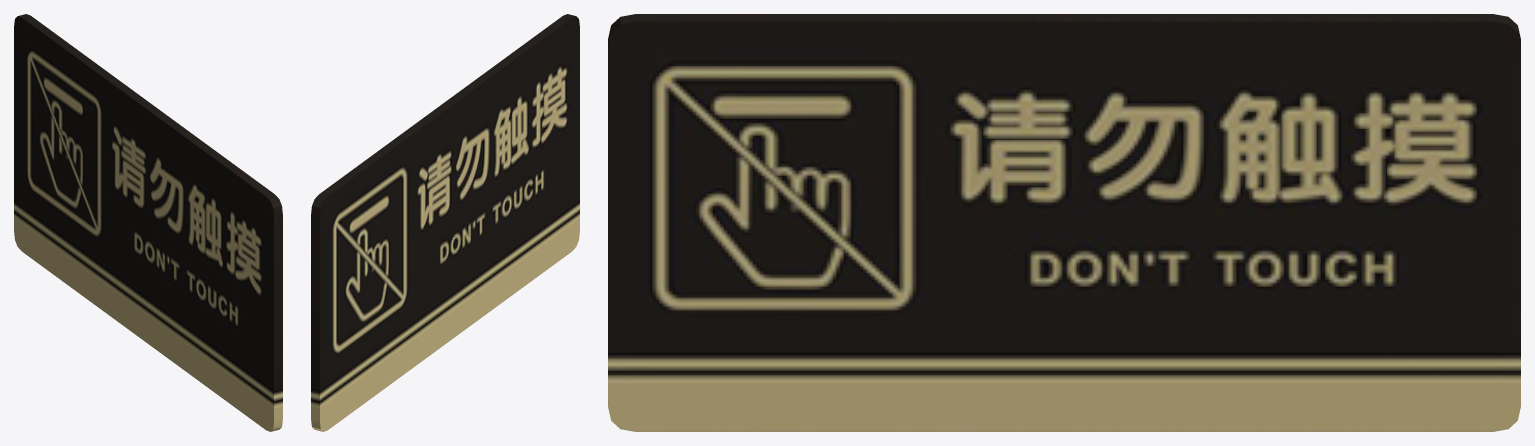
Rendered from 警示牌.FBX.
The picture shows the model from 3 angles, left to right: view 1: azimuth 30°, elevation 25°; view 2: azimuth 150°, elevation 25°; view 3: azimuth 270°, elevation 25°; orthographic projection. The views are drawn at different scales.
Parts seen in each view (by area): view 1: 对象261; view 2: 对象261; view 3: 对象261.
Part boxes in pixels (x1,y1,x2,y2): 对象261: (14, 14, 282, 431); 对象261: (311, 14, 579, 431); 对象261: (608, 14, 1520, 431).
Bounding box in the file's own units: 5 × 127 × 256.
